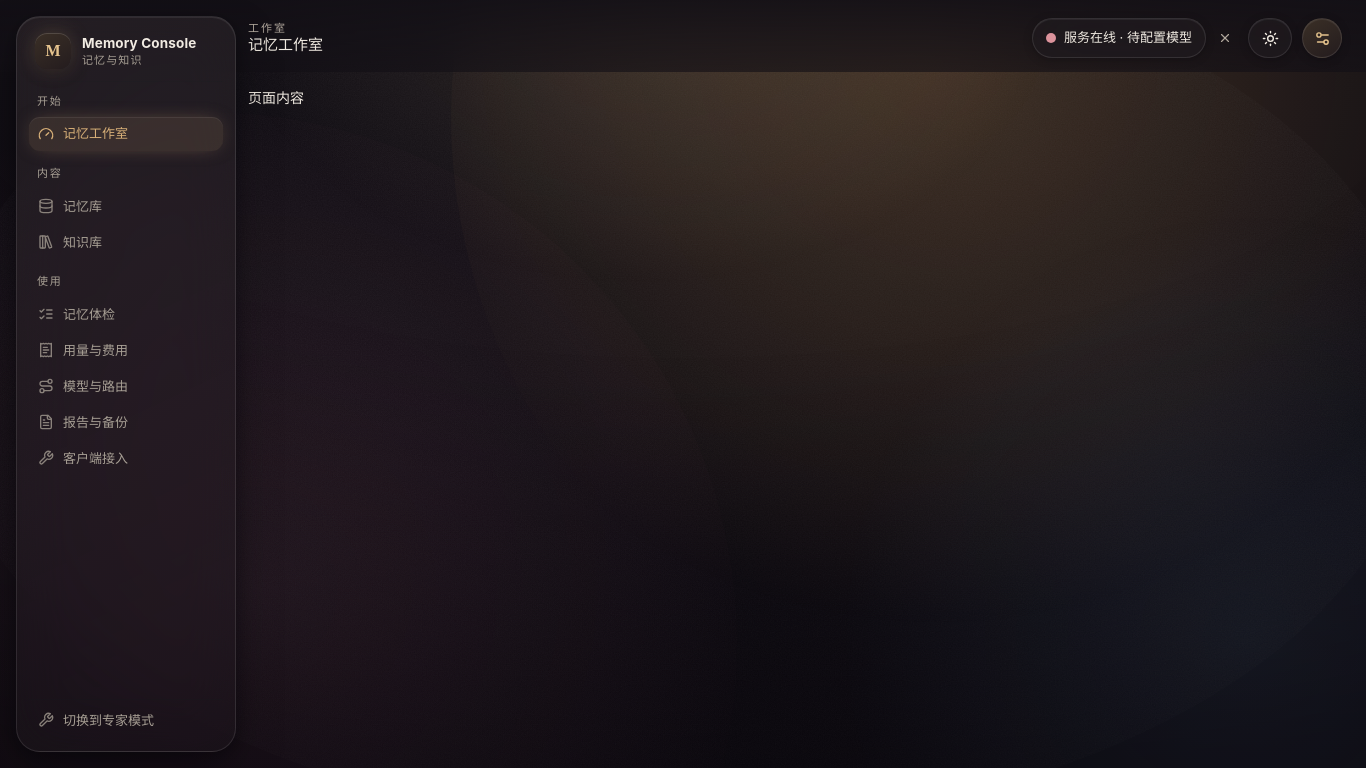
Test: AppShell 状态横幅 › warning 在可操作页面渲染，点击关闭后消失
Expected: the text "服务在线 · 待配置模型" is shown, [1064,27,1192,49]
Click the button named "关闭状态提示" at (1225, 38), box [1212,16,1238,60]
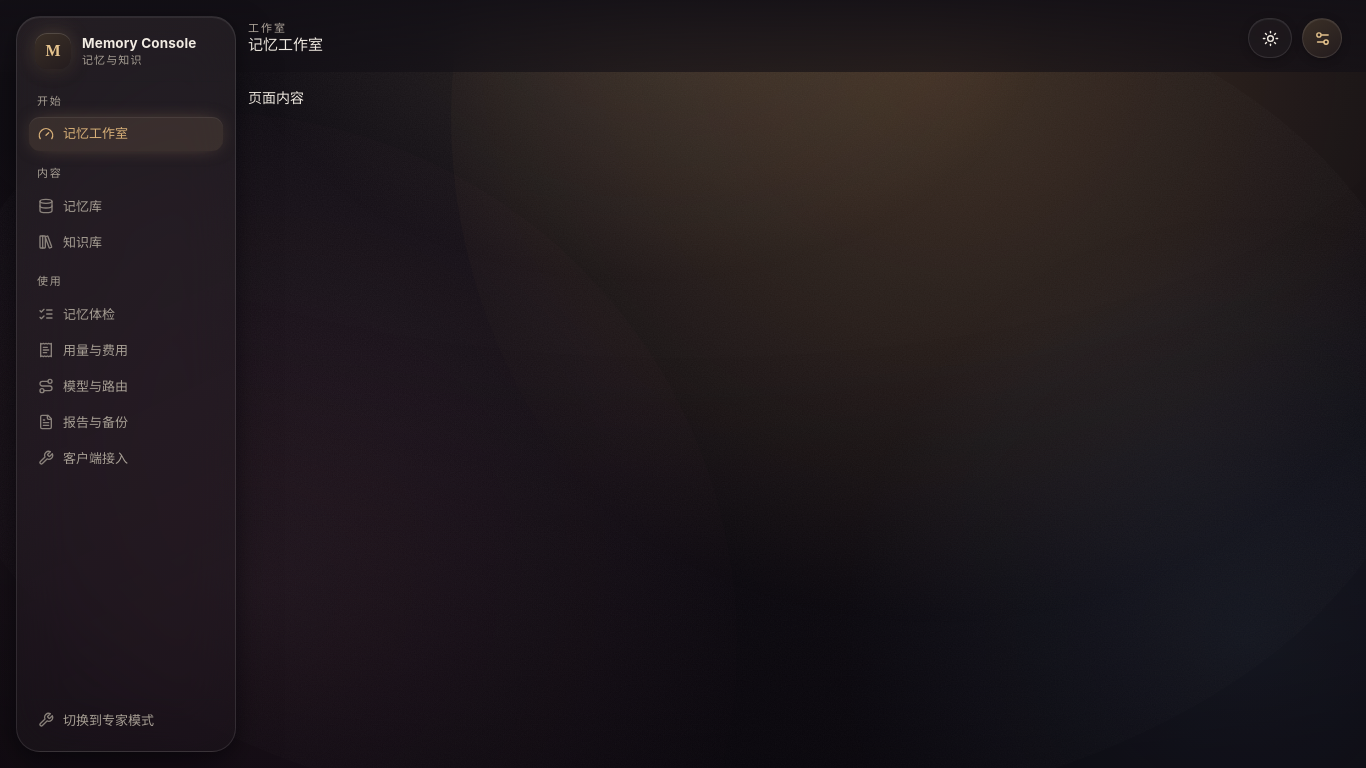
Expected: the button "服务在线 · 待配置模型" is gone
